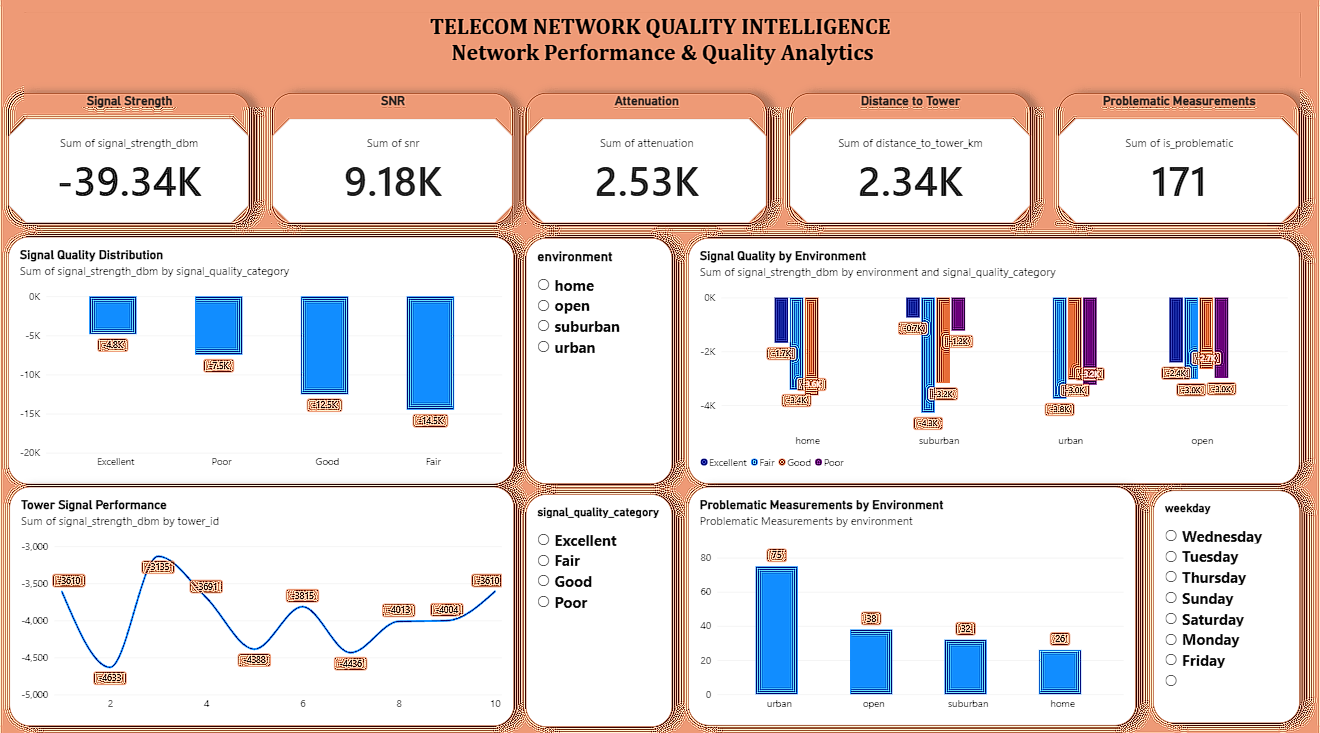

This screenshot's page, from the dashboard's own definition file:
{"tool":"powerbi","page":{"name":"Executive Overview","canvas":[1920,1080],"ordinal":0},"visuals":[{"type":"textbox","box":[42,0,1844,122],"z":0},{"type":"cardVisual","title":"Signal Strength","fields":{"Data":["Sum(train_cleaned.signal_strength_dbm)"]},"box":[16.5,144.1,349.9,189.4],"z":1000},{"type":"cardVisual","title":"SNR","fields":{"Data":["Sum(train_cleaned.snr)"]},"box":[397.3,144.1,349,189.4],"z":2000},{"type":"cardVisual","title":"Attenuation","fields":{"Data":["Sum(train_cleaned.attenuation)"]},"box":[765.7,144.1,349,189.4],"z":3000},{"type":"cardVisual","title":"Distance to Tower","fields":{"Data":["Sum(train_cleaned.distance_to_tower_km)"]},"box":[1146.5,144.1,349,189.4],"z":4000},{"type":"cardVisual","title":"Problematic Measurements","fields":{"Data":["Sum(train_cleaned.is_problematic)"]},"box":[1535.5,144.1,349,189.4],"z":5000},{"type":"columnChart","title":"Signal Quality Distribution","fields":{"Category":["train_cleaned.signal_quality_category"],"Y":["Sum(train_cleaned.signal_strength_dbm)"]},"box":[16,352,732,358],"z":6000},{"type":"clusteredColumnChart","title":"Signal Quality by Environment","fields":{"Category":["train_cleaned.environment"],"Series":["train_cleaned.signal_quality_category"],"Y":["Sum(train_cleaned.signal_strength_dbm)"]},"box":[1000.3,354,885.1,356.1],"z":7000},{"type":"lineChart","title":"Tower Signal Performance","fields":{"Category":["train_cleaned.tower_id"],"Y":["Sum(train_cleaned.signal_strength_dbm)"]},"box":[18,714,730,346],"z":8000},{"type":"columnChart","title":"Problematic Measurements by Environment","fields":{"Category":["train_cleaned.environment"],"Y":["train_cleaned.Problematic Measurements"]},"box":[1000.7,714.8,647.9,345.6],"z":9000},{"type":"listSlicer","fields":{"Values":["train_cleaned.environment"]},"box":[766,354,212,356],"z":10000},{"type":"listSlicer","fields":{"Values":["train_cleaned.signal_quality_category"]},"box":[765.5,725.7,211.7,336.6],"z":11000},{"type":"listSlicer","fields":{"Values":["train_cleaned.weekday"]},"box":[1664.9,716.6,220.8,345.6],"z":12000}]}

Visuals, with their boxes in screenshot pixels (x1, y1, x2, y2), scaled from the page's 1920x1080 canvas onto the 1320x733 screenshot:
textbox: l=29, t=0, r=1297, b=83
"Signal Strength" cardVisual: l=11, t=98, r=252, b=226
"SNR" cardVisual: l=273, t=98, r=513, b=226
"Attenuation" cardVisual: l=526, t=98, r=766, b=226
"Distance to Tower" cardVisual: l=788, t=98, r=1028, b=226
"Problematic Measurements" cardVisual: l=1056, t=98, r=1296, b=226
"Signal Quality Distribution" columnChart: l=11, t=239, r=514, b=482
"Signal Quality by Environment" clusteredColumnChart: l=688, t=240, r=1296, b=482
"Tower Signal Performance" lineChart: l=12, t=485, r=514, b=719
"Problematic Measurements by Environment" columnChart: l=688, t=485, r=1133, b=720
listSlicer - train_cleaned.environment: l=527, t=240, r=672, b=482
listSlicer - train_cleaned.signal_quality_category: l=526, t=493, r=672, b=721
listSlicer - train_cleaned.weekday: l=1145, t=486, r=1296, b=721
